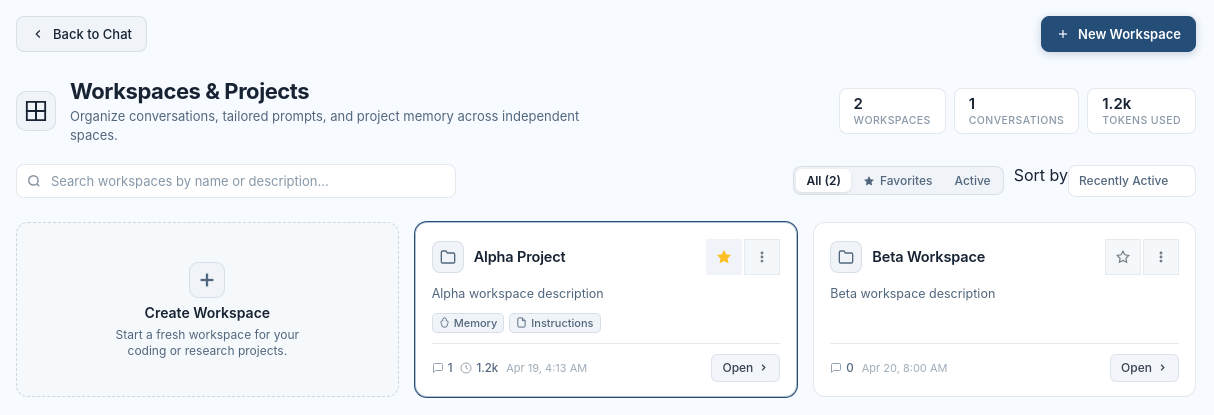
ProjectsLanding component › filters workspaces by search query
Type "Beta" into the search field with placeholder "Search workspaces by name or description…" at {"x": 247, "y": 181}, box [49,172,445,190]
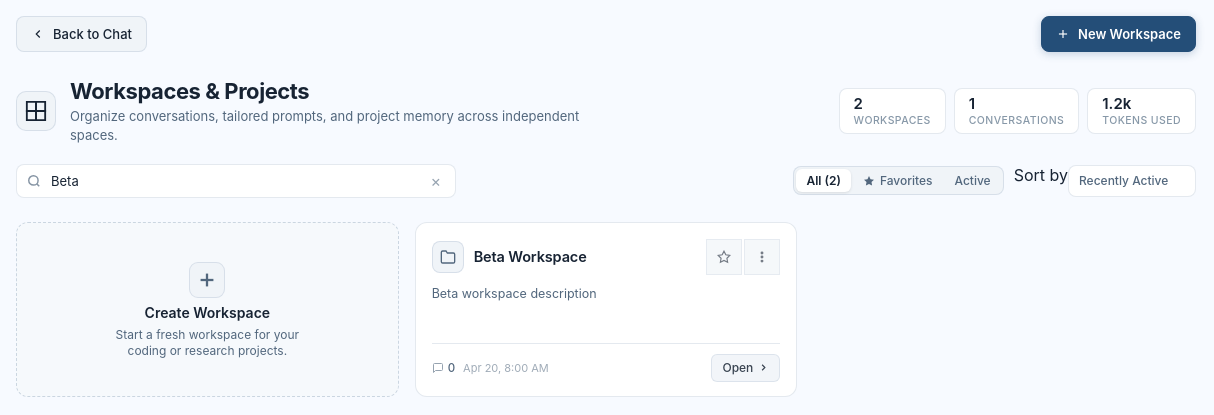
Expected: the heading "Beta Workspace" is shown, [474,248,587,265]
Result: the button "Alpha Project" is gone
